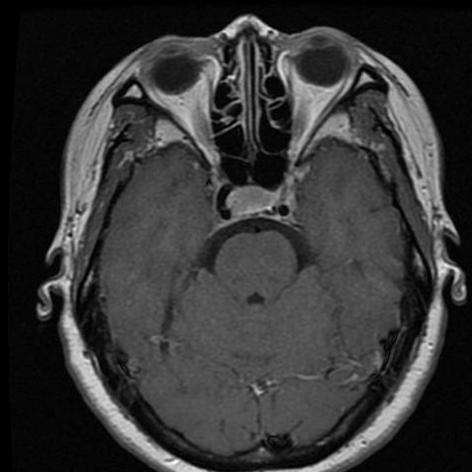Tumour-Pituitary: (207, 173, 302, 233)
